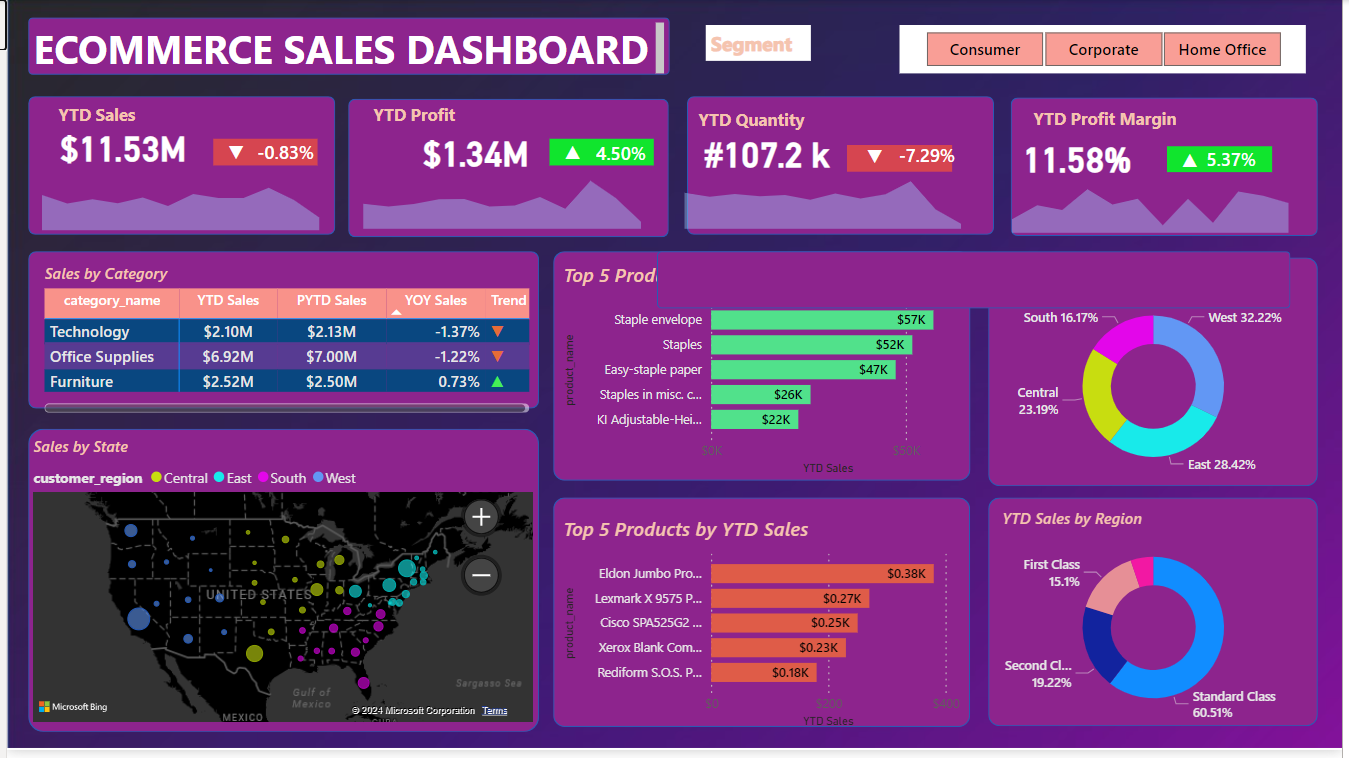

The page's visual inventory and layout, read from the dashboard file:
{"tool":"powerbi","page":{"name":"Page 1","canvas":[1280,720],"ordinal":0},"visuals":[{"type":"shape","box":[20.2,17.3,615,55],"z":0},{"type":"textbox","box":[20.2,17.3,614.6,59.2],"z":1000},{"type":"shape","box":[20.2,92.3,294.3,132.7],"z":2000},{"type":"card","fields":{"Values":["ecommerce_data.YTD Sales"]},"box":[40.4,109.6,141.4,63.5],"z":3000},{"type":"areaChart","fields":{"Category":["Calender.Month"],"Y":["Sum(ecommerce_data.sales_per_order)"]},"box":[19.7,158.8,295,66.6],"z":4000},{"type":"shape","box":[198.2,133.1,99.8,25.7],"z":5000},{"type":"card","fields":{"Values":["ecommerce_data.YOY Sales"]},"box":[220.7,131.3,93.8,31.7],"z":6000},{"type":"card","fields":{"Values":["ecommerce_data.Sales Icons"]},"box":[192.1,133.1,56,30.3],"z":7000},{"type":"textbox","box":[43.9,93.8,124,46.9],"z":8000},{"type":"shape","box":[327.5,95.2,307.3,132.7],"z":9000},{"type":"card","fields":{"Values":["ecommerce_data.YTD Profit"]},"box":[378.3,113.6,141.4,63.5],"z":10000},{"type":"areaChart","fields":{"Category":["Calender.Month"],"Y":["Sum(ecommerce_data.profit_per_order)"]},"box":[326.9,158,295.6,66.4],"z":11000},{"type":"shape","box":[520,132.7,100.1,25.3],"z":12000},{"type":"card","fields":{"Values":["ecommerce_data.YOY Profit"]},"box":[541.7,132.7,94.1,31.4],"z":13000},{"type":"card","fields":{"Values":["ecommerce_data.Profit Icon"]},"box":[513.9,132.7,56.7,30.2],"z":14000},{"type":"textbox","box":[346.3,93.8,118.3,34.6],"z":15000},{"type":"shape","box":[652.1,92.3,294.3,132.7],"z":16000},{"type":"card","fields":{"Values":["ecommerce_data.YTD Concatenated Qty"]},"box":[657.9,115.4,141.4,63.5],"z":17000},{"type":"areaChart","fields":{"Category":["Calender.Month"],"Y":["Sum(ecommerce_data.order_quantity)"]},"box":[634.8,158.7,294.3,66.4],"z":18000},{"type":"shape","box":[805.1,138.5,101,26],"z":19000},{"type":"card","fields":{"Values":["ecommerce_data.YOY Qty"]},"box":[835.4,135.6,93.8,31.7],"z":20000},{"type":"card","fields":{"Values":["ecommerce_data.Qty Icon"]},"box":[803.6,137.1,56.3,30.3],"z":21000},{"type":"textbox","box":[657.9,98.1,124.1,46.2],"z":22000},{"type":"shape","box":[962.3,93.8,294.3,132.7],"z":23000},{"type":"card","fields":{"Values":["ecommerce_data.YTD Profit Margin"]},"box":[955.1,119.7,141.4,63.5],"z":24000},{"type":"areaChart","fields":{"Category":["Calender.Month"],"Y":["ecommerce_data.Profit Margin"]},"box":[949.3,160.1,294.3,67.8],"z":25000},{"type":"shape","box":[1112.4,139.9,101,24.5],"z":26000},{"type":"card","fields":{"Values":["ecommerce_data.YOY Profit Margin"]},"box":[1135.5,138.5,77.9,31.7],"z":27000},{"type":"card","fields":{"Values":["ecommerce_data.Profit Margin Icon"]},"box":[1106.6,139.9,56.3,30.3],"z":28000},{"type":"textbox","box":[979.6,96.7,183.2,47.6],"z":29000},{"type":"shape","box":[20.5,241.3,489.8,150.8],"z":30000},{"type":"pivotTable","title":"Sales by Category","fields":{"Rows":["ecommerce_data.category_name"],"Values":["ecommerce_data.YTD Sales","ecommerce_data.PYTD Sales","ecommerce_data.YOY Sales","ecommerce_data.Sales Icons"]},"box":[31.4,251.5,474.8,149.4],"z":31000},{"type":"shape","box":[20.5,411.4,489.8,290.8],"z":32000},{"type":"map","title":"Sales by State","fields":{"Y":["Sheet1.latitude"],"X":["Sheet1.longitude"],"Size":["ecommerce_data.YTD Sales"],"Series":["ecommerce_data.customer_region"]},"box":[20.2,417,489.1,279.9],"z":33000},{"type":"shape","box":[523.7,240.9,400,220],"z":34000},{"type":"shape","box":[523.7,477.6,399.6,220],"z":35000},{"type":"barChart","title":"Top 5 Products by YTD Sales","fields":{"Category":["ecommerce_data.product_name"],"Y":["ecommerce_data.YTD Sales"]},"box":[528.6,250.9,389.8,210],"z":36000},{"type":"barChart","title":"Top 5 Products by YTD Sales","fields":{"Category":["ecommerce_data.product_name"],"Y":["ecommerce_data.YTD Sales"]},"box":[528.1,493.4,389.5,209.2],"z":37000},{"type":"shape","box":[940.7,246.7,316,219.3],"z":38000},{"type":"shape","box":[940.7,477.6,316,219.3],"z":39000},{"type":"donutChart","title":"YTD Sales by Region","fields":{"Category":["ecommerce_data.customer_region"],"Y":["ecommerce_data.YTD Sales"]},"box":[949.3,255.4,300.1,210.6],"z":40000},{"type":"donutChart","title":"YTD Sales by Region","fields":{"Y":["ecommerce_data.YTD Sales"],"Category":["ecommerce_data.shipping_type"]},"box":[949.3,486.2,300.1,210.6],"z":41000},{"type":"slicer","fields":{"Values":["ecommerce_data.customer_segment"]},"box":[855.6,24.5,389.5,46.2],"z":42000},{"type":"textbox","box":[669.4,24.5,101,34.6],"z":43000},{"type":"shape","box":[623.3,240.9,607.4,54.8],"z":44000}]}

Visuals, with their boxes in screenshot pixels (x1, y1, x2, y2), scaled from the page's 1280x720 canvas onto the 1349x758 screenshot:
shape: 21 18 669 76
textbox: 21 18 669 81
shape: 21 97 331 237
card - ecommerce_data.YTD Sales: 43 115 192 182
areaChart - Calender.Month x Sum(ecommerce_data.sales_per_order): 21 167 332 237
shape: 209 140 314 167
card - ecommerce_data.YOY Sales: 233 138 331 172
card - ecommerce_data.Sales Icons: 202 140 261 172
textbox: 46 99 177 148
shape: 345 100 669 240
card - ecommerce_data.YTD Profit: 399 120 548 186
areaChart - Calender.Month x Sum(ecommerce_data.profit_per_order): 345 166 656 236
shape: 548 140 654 166
card - ecommerce_data.YOY Profit: 571 140 670 173
card - ecommerce_data.Profit Icon: 542 140 601 171
textbox: 365 99 490 135
shape: 687 97 997 237
card - ecommerce_data.YTD Concatenated Qty: 693 121 842 188
areaChart - Calender.Month x Sum(ecommerce_data.order_quantity): 669 167 979 237
shape: 848 146 955 173
card - ecommerce_data.YOY Qty: 880 143 979 176
card - ecommerce_data.Qty Icon: 847 144 906 176
textbox: 693 103 824 152
shape: 1014 99 1324 238
card - ecommerce_data.YTD Profit Margin: 1007 126 1156 193
areaChart - Calender.Month x ecommerce_data.Profit Margin: 1000 169 1311 240
shape: 1172 147 1279 173
card - ecommerce_data.YOY Profit Margin: 1197 146 1279 179
card - ecommerce_data.Profit Margin Icon: 1166 147 1226 179
textbox: 1032 102 1225 152
shape: 22 254 538 413
"Sales by Category" pivotTable: 33 265 533 422
shape: 22 433 538 739
"Sales by State" map: 21 439 537 734
shape: 552 254 973 485
shape: 552 503 973 734
"Top 5 Products by YTD Sales" barChart: 557 264 968 485
"Top 5 Products by YTD Sales" barChart: 557 519 967 740
shape: 991 260 1324 491
shape: 991 503 1324 734
"YTD Sales by Region" donutChart: 1000 269 1317 491
"YTD Sales by Region" donutChart: 1000 512 1317 734
slicer - ecommerce_data.customer_segment: 902 26 1312 74
textbox: 705 26 812 62
shape: 657 254 1297 311
